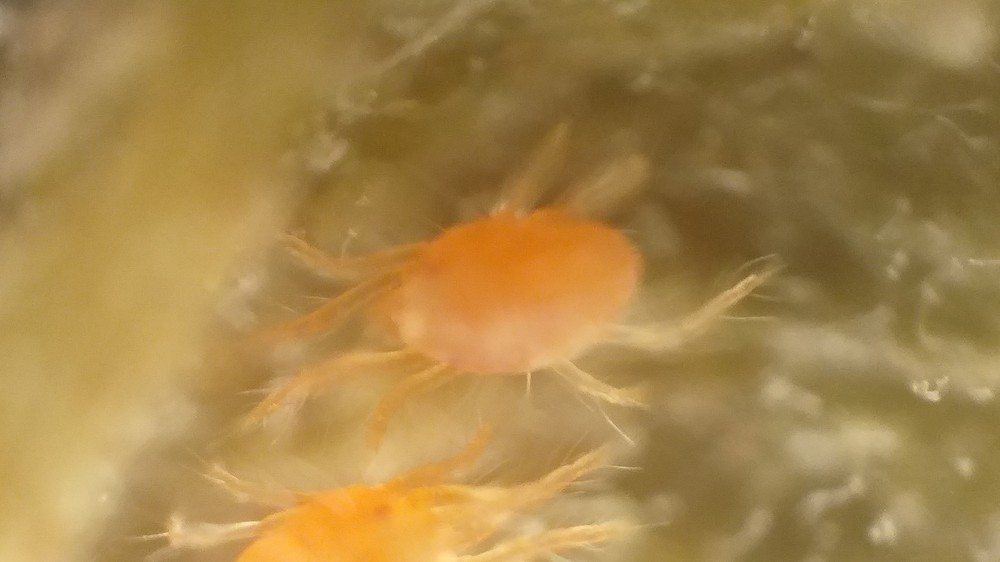Aracnido Rojo: (244, 146, 768, 432), (166, 448, 729, 562)
